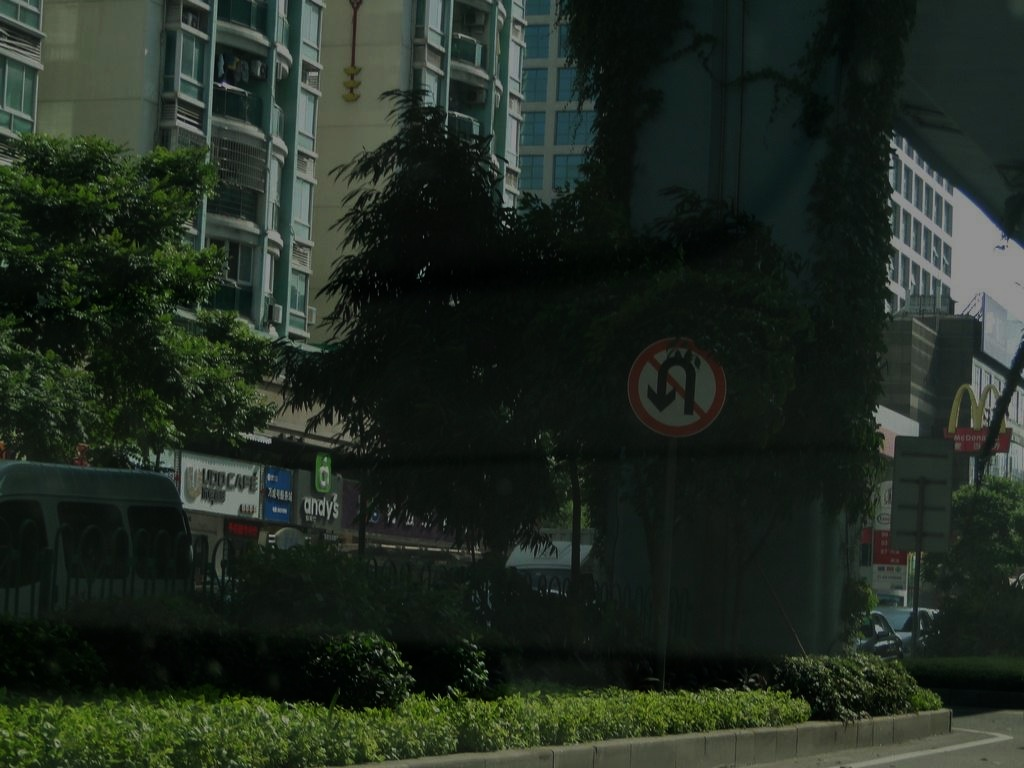Prohibitory Signs: (626, 334, 729, 440)
